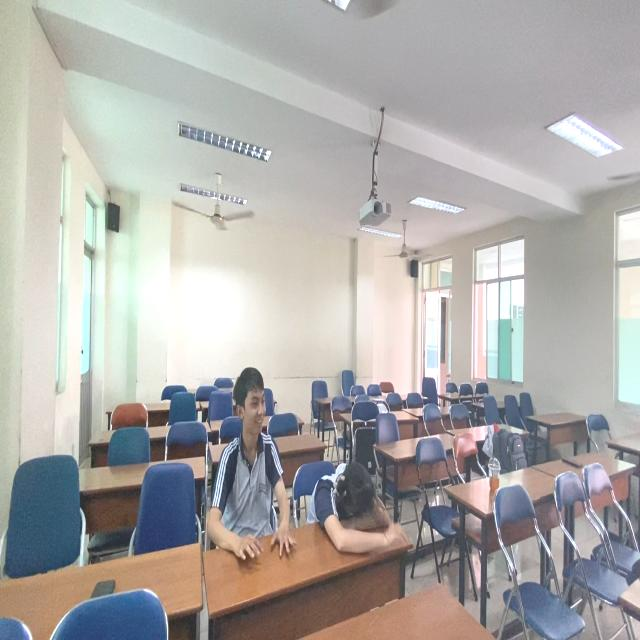sleep: (314, 432, 411, 564)
